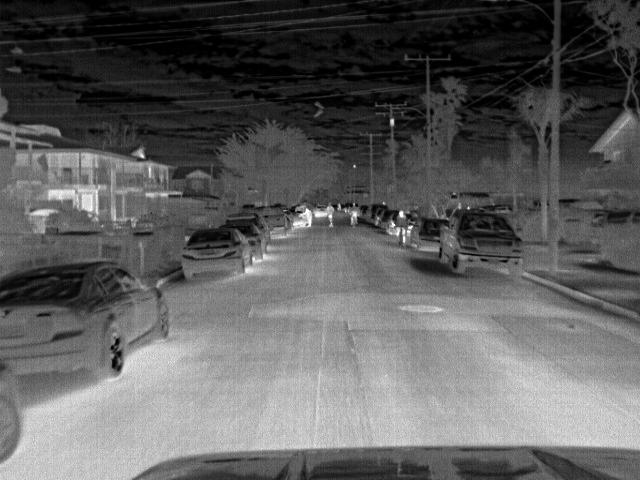car: (3, 257, 171, 384), (438, 209, 525, 277), (178, 226, 253, 277), (2, 365, 24, 466), (588, 208, 640, 248), (407, 214, 451, 255), (220, 221, 266, 257), (253, 206, 288, 234), (287, 204, 309, 229), (378, 207, 395, 227), (367, 204, 383, 222), (387, 213, 399, 232), (315, 204, 330, 218)
person: (395, 209, 411, 249), (298, 205, 314, 228), (349, 202, 362, 228), (324, 200, 336, 227)
